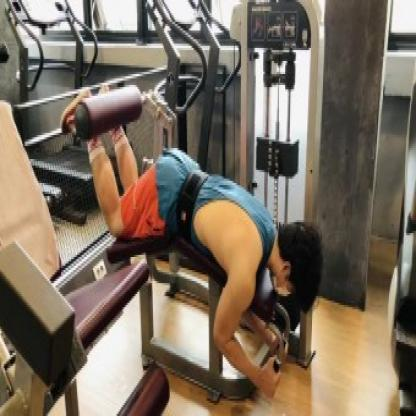reg curl machine: (58, 0, 331, 405)
